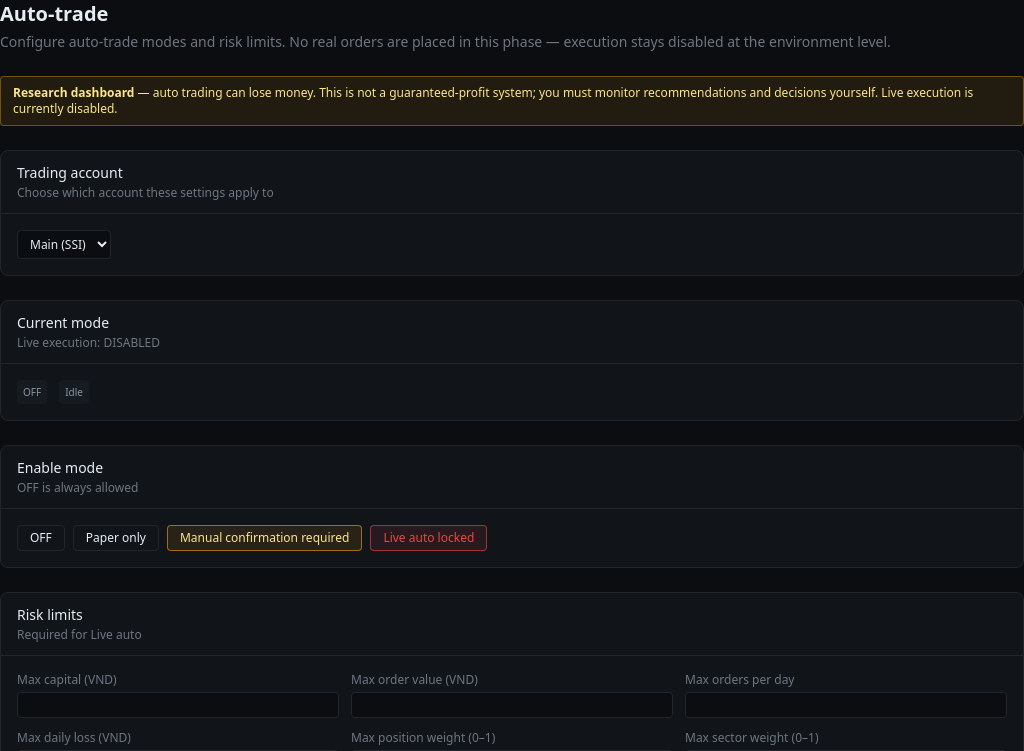
Scenario: AutoTradePage › opens the risk-acknowledgement modal on Live auto request success
Click the button with test id "btn-live-auto" at (429, 538), box [370,525,487,551]
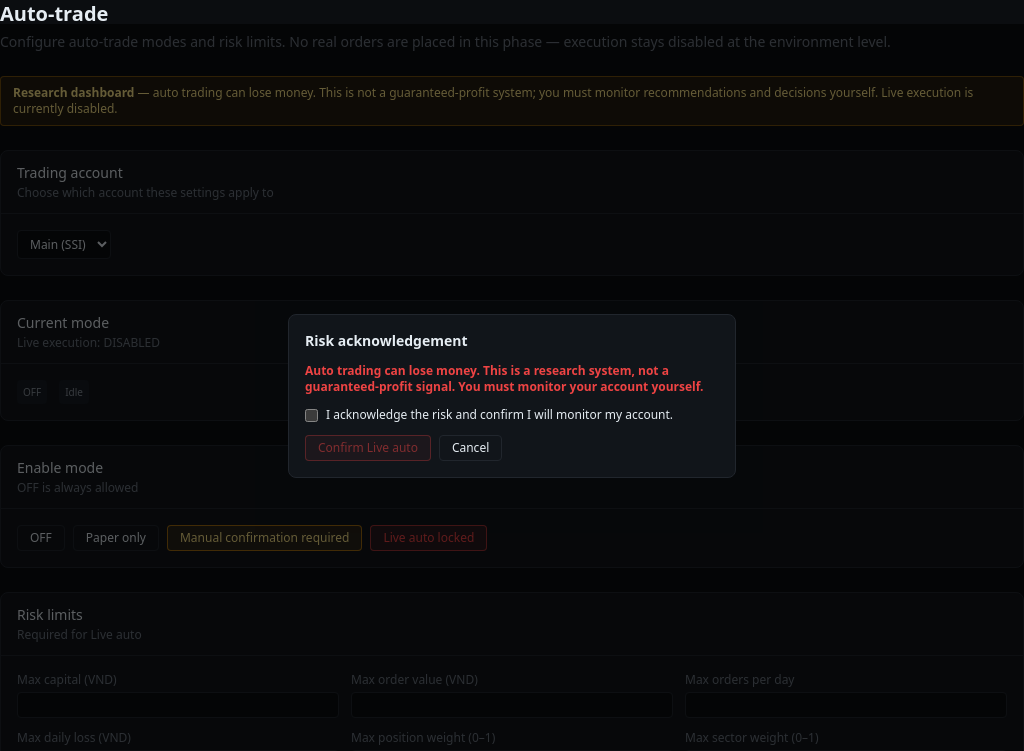
Expected: the button with test id "risk-ack-confirm" is disabled, [305,435,431,461]
Note: Tick the box → confirm becomes enabled.
Click the checkbox with test id "risk-ack-checkbox" at (312, 415), box [305,408,318,422]
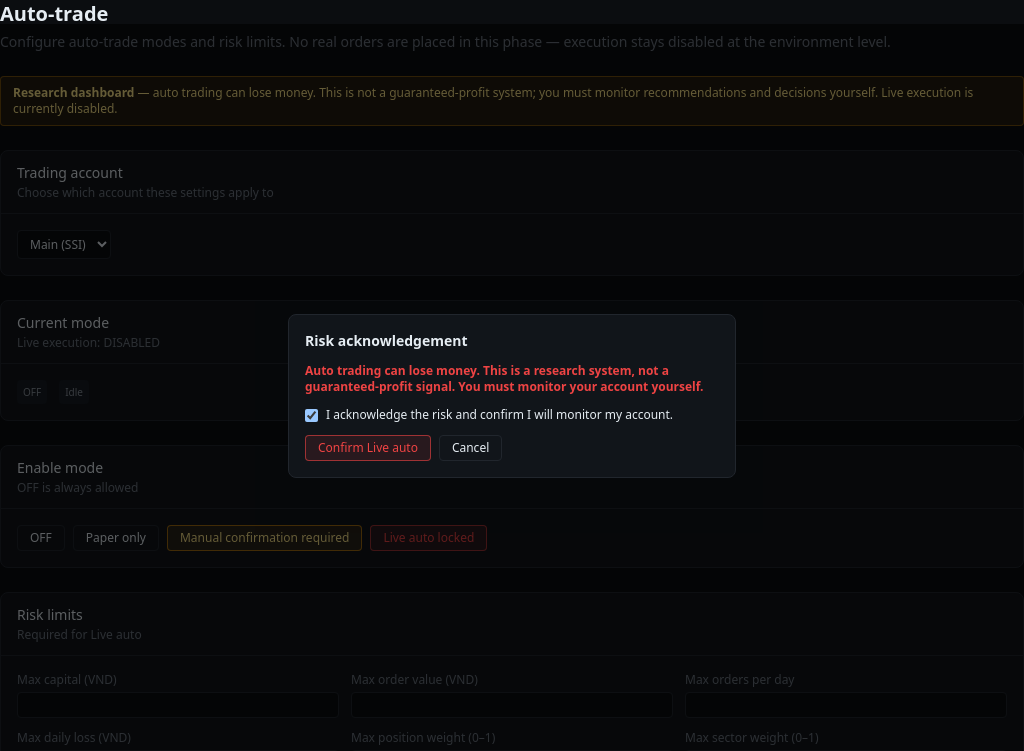
Expected: the button with test id "risk-ack-confirm" is enabled, [305,435,431,461]
